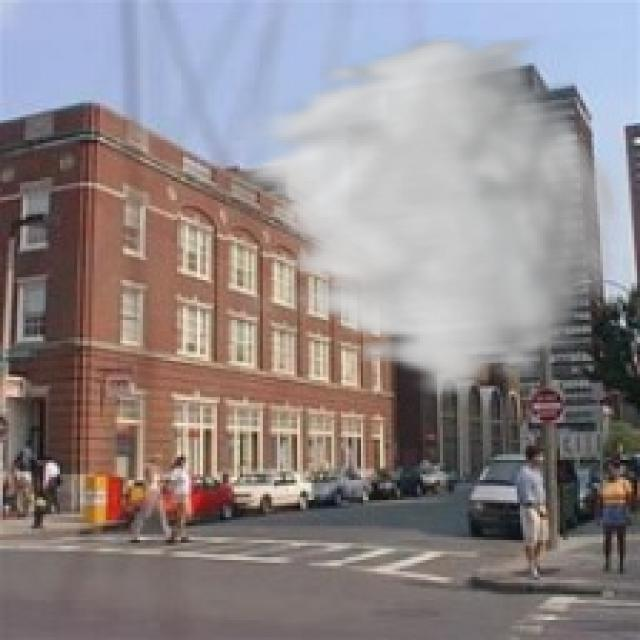smoke: (228, 31, 628, 403)
